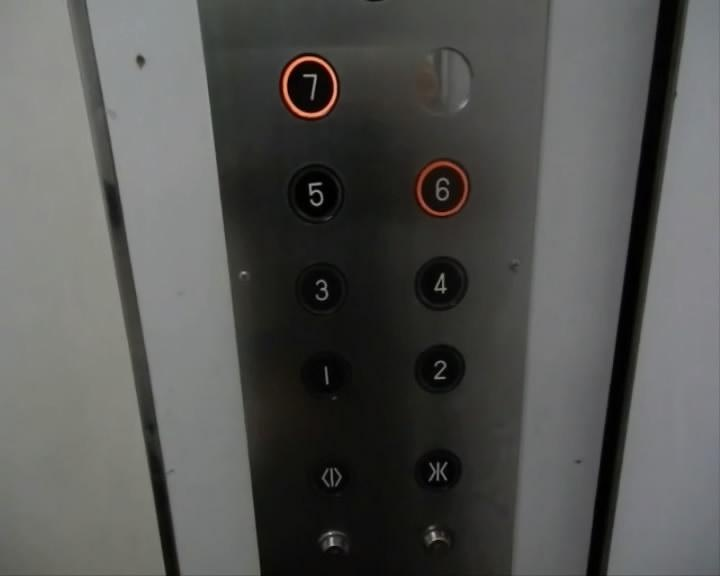1: (297, 343, 353, 402)
2: (411, 338, 467, 397)
3: (291, 257, 350, 318)
4: (410, 252, 469, 313)
5: (282, 159, 348, 225)
6: (408, 154, 474, 220)
7: (276, 50, 343, 123)
close: (412, 444, 463, 495)
empty: (409, 43, 476, 116)
indicator: (312, 524, 355, 566), (414, 521, 457, 563)
open: (306, 450, 357, 501)
